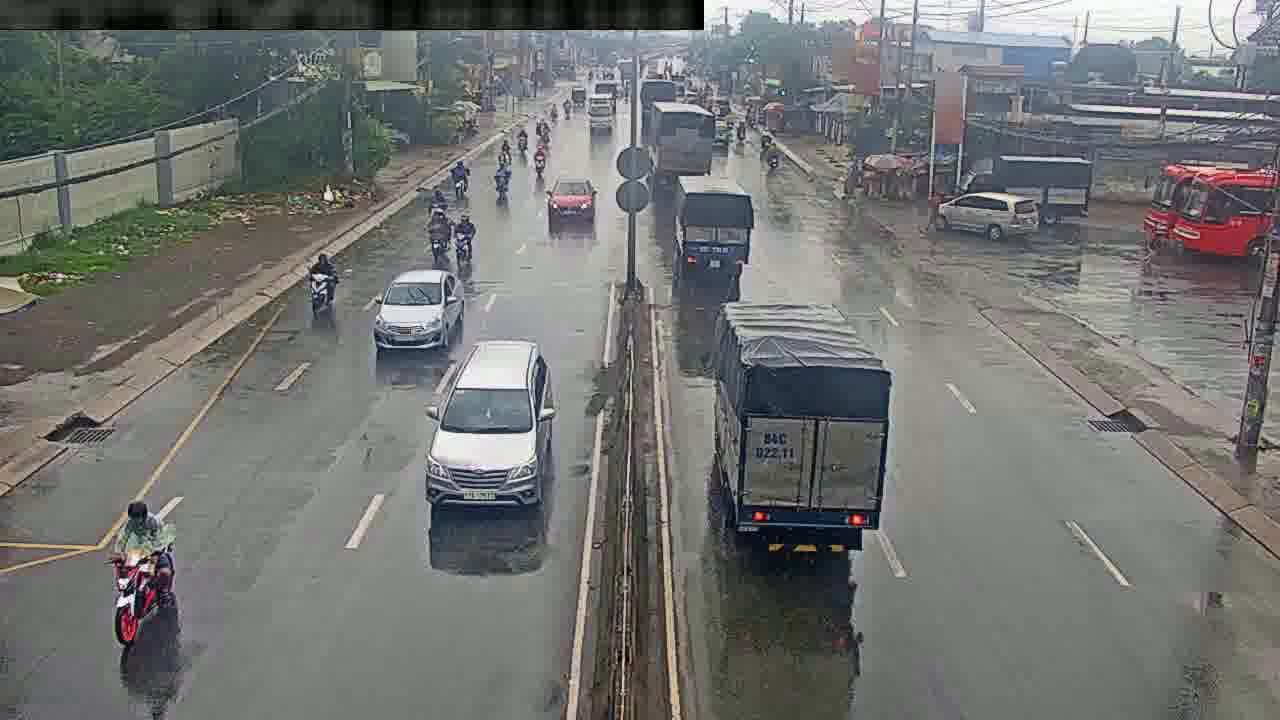8: (710, 305, 892, 554), (672, 171, 751, 279), (659, 112, 705, 171), (587, 83, 621, 125)
container: (423, 343, 556, 503), (377, 277, 469, 346), (549, 173, 596, 229)
motorbike: (115, 501, 177, 645), (307, 245, 339, 320), (422, 203, 449, 266), (453, 210, 478, 270), (454, 153, 472, 198), (494, 159, 512, 200), (535, 124, 550, 166), (765, 135, 780, 173)
